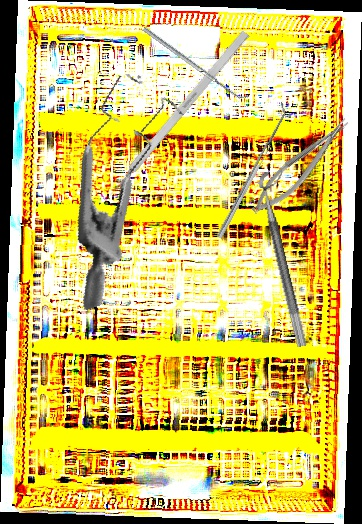Fixation Ring: (256, 168, 322, 348)
Hook Surgical: (101, 29, 250, 205)
Needle Holder: (243, 113, 359, 221)
Spatula Surgical: (211, 102, 292, 239), (142, 23, 249, 104)
Speculum: (18, 61, 232, 311)
